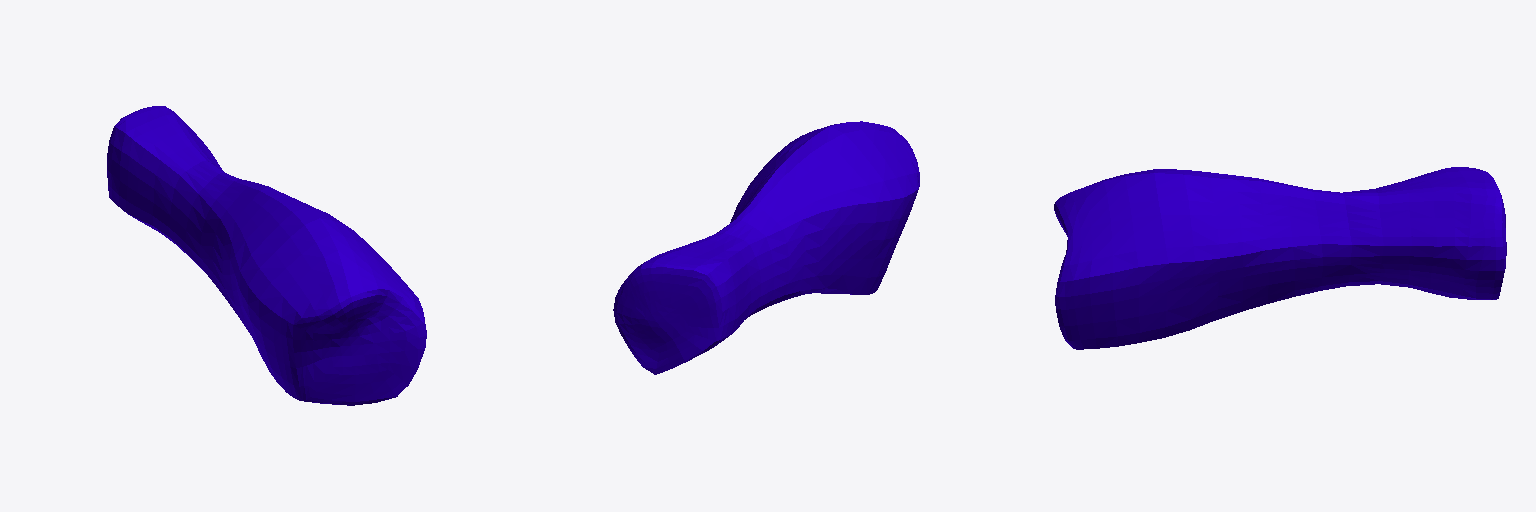
The model's file is L_L_Leg.obj.
The picture shows the model from 3 angles: view 1: azimuth 30°, elevation 25°; view 2: azimuth 150°, elevation 25°; view 3: azimuth 270°, elevation 25°; orthographic projection.
Visible parts, largest first — view 1: L_L_Leg_Alpha_Surface.005; view 2: L_L_Leg_Alpha_Surface.005; view 3: L_L_Leg_Alpha_Surface.005.
Part boxes in pixels (x1,y1,x2,y2): L_L_Leg_Alpha_Surface.005: (107, 106, 426, 405); L_L_Leg_Alpha_Surface.005: (613, 121, 919, 374); L_L_Leg_Alpha_Surface.005: (1054, 167, 1506, 349).
Size of the model in its own units: 0.1444 by 0.1714 by 0.4212.